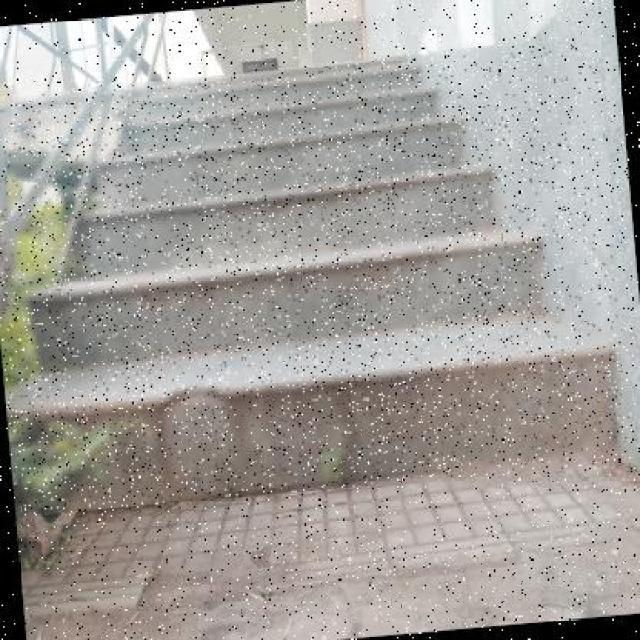Stairs: (35, 57, 621, 480)
